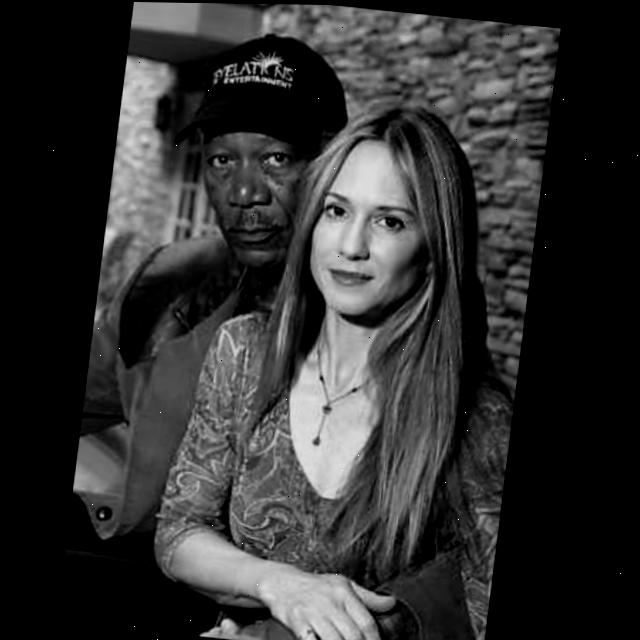face: (297, 123, 439, 336), (189, 114, 315, 267)
